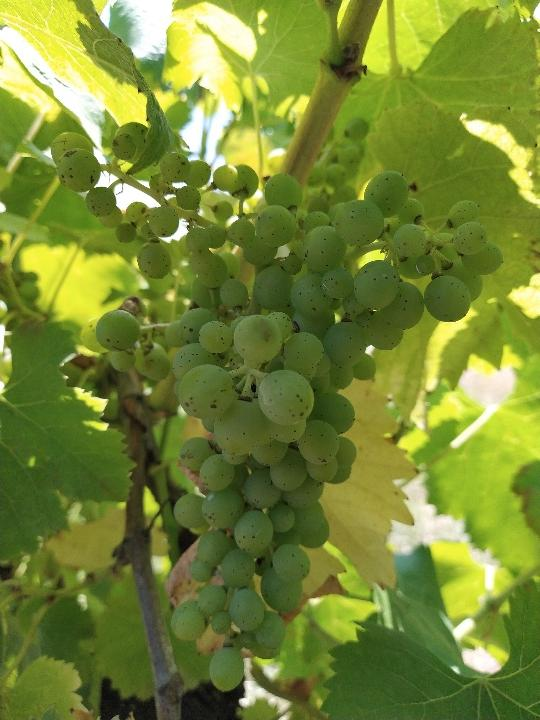grape: (47, 122, 505, 694)
